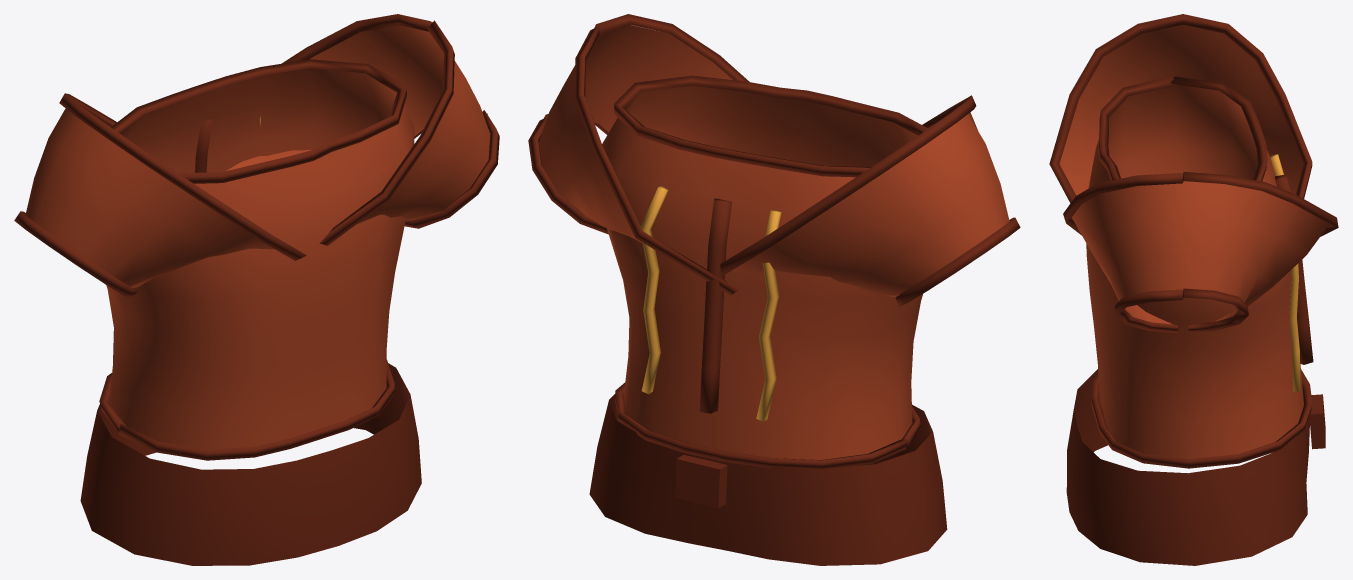
Rendered from meteor_suit.glb.
3 views of the same model, side by side, from view 1: azimuth 30°, elevation 25°; view 2: azimuth 150°, elevation 25°; view 3: azimuth 270°, elevation 25° (orthographic). The views are drawn at different scales.
Visible parts, largest first — view 1: meteor_suit_chest; view 2: meteor_suit_chest; view 3: meteor_suit_chest.
Part boxes in pixels (box(x1,y1,x2,y2)): meteor_suit_chest: box(14, 14, 499, 565); meteor_suit_chest: box(528, 14, 1020, 565); meteor_suit_chest: box(1049, 14, 1338, 565).
Size of the model in its own units: 0.6477 by 0.592 by 0.3782.
